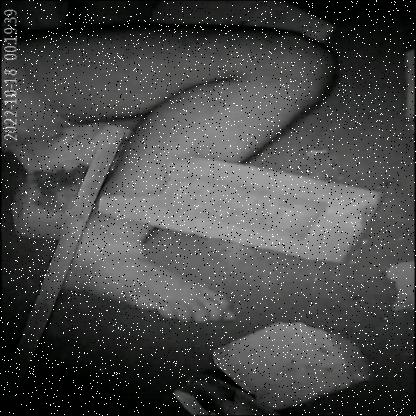leg: (8, 19, 354, 333)
